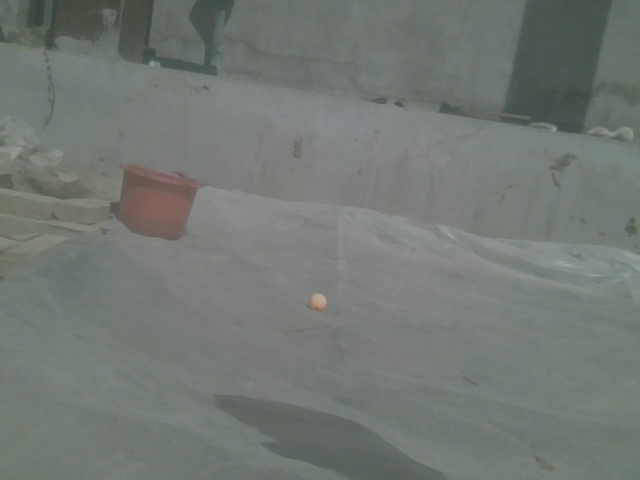ball: (310, 293, 329, 312)
